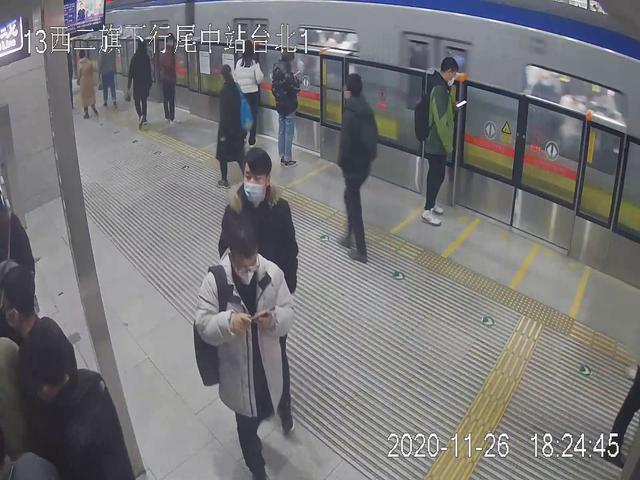person: (190, 221, 289, 480), (219, 146, 298, 434), (332, 72, 379, 264), (413, 55, 463, 228), (213, 63, 251, 184), (271, 47, 300, 169), (233, 40, 262, 142), (128, 33, 156, 131), (156, 38, 177, 130), (74, 48, 98, 120)
